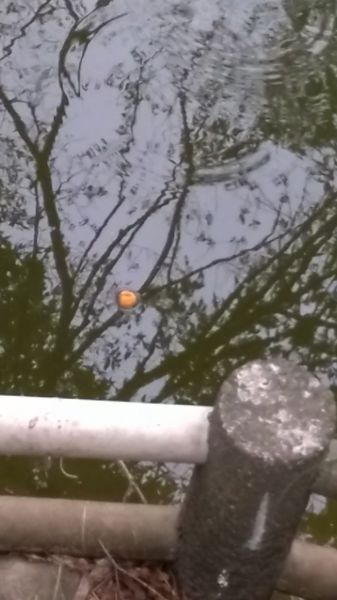eggs: (114, 285, 140, 310)
